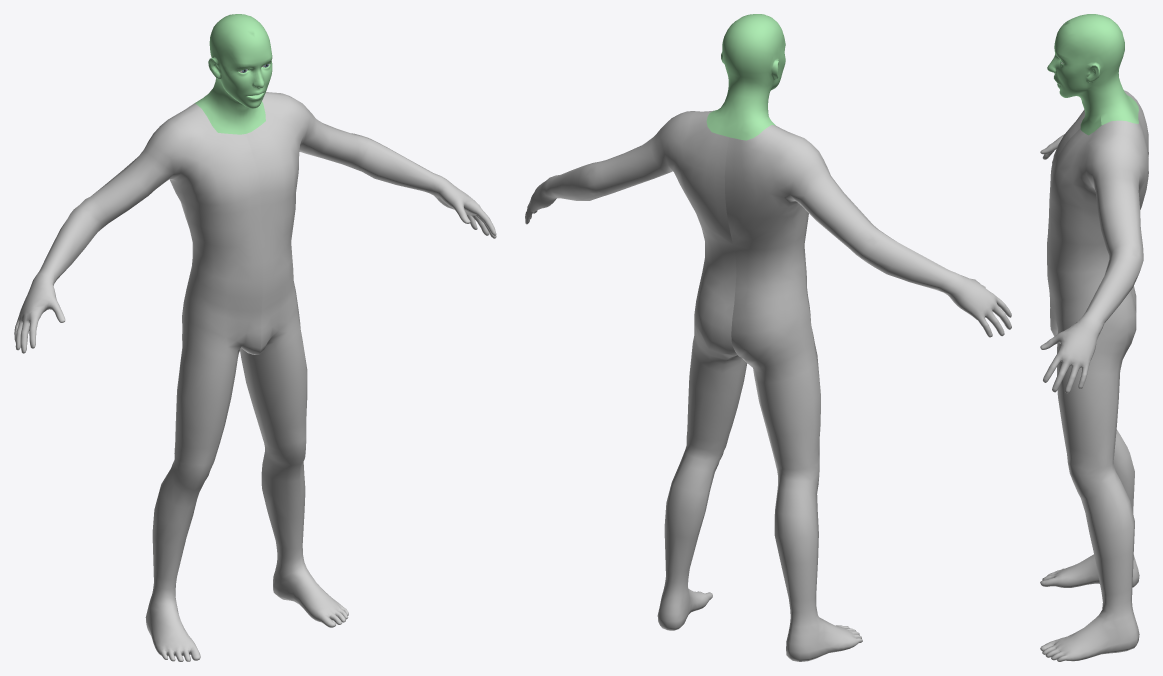
File: MESH_c_m_basenude_static.fbx
The picture shows the model from 3 angles, left to right: view 1: azimuth 30°, elevation 25°; view 2: azimuth 150°, elevation 25°; view 3: azimuth 270°, elevation 25°; orthographic projection. The views are drawn at different scales.
Parts seen in each view (by area): view 1: Male_Nude_Body.001, Male_Nude_Body.002; view 2: Male_Nude_Body.001, Male_Nude_Body.002; view 3: Male_Nude_Body.001, Male_Nude_Body.002.
Part boxes in pixels (x1=…): Male_Nude_Body.001: x1=14, y1=92, x2=496, y2=661; Male_Nude_Body.002: x1=194, y1=14, x2=272, y2=134; Male_Nude_Body.001: x1=525, y1=110, x2=1011, y2=661; Male_Nude_Body.002: x1=706, y1=14, x2=785, y2=140; Male_Nude_Body.001: x1=1040, y1=90, x2=1148, y2=661; Male_Nude_Body.002: x1=1047, y1=14, x2=1138, y2=135.
Size of the model in its own units: 142 by 175 by 28.6.
